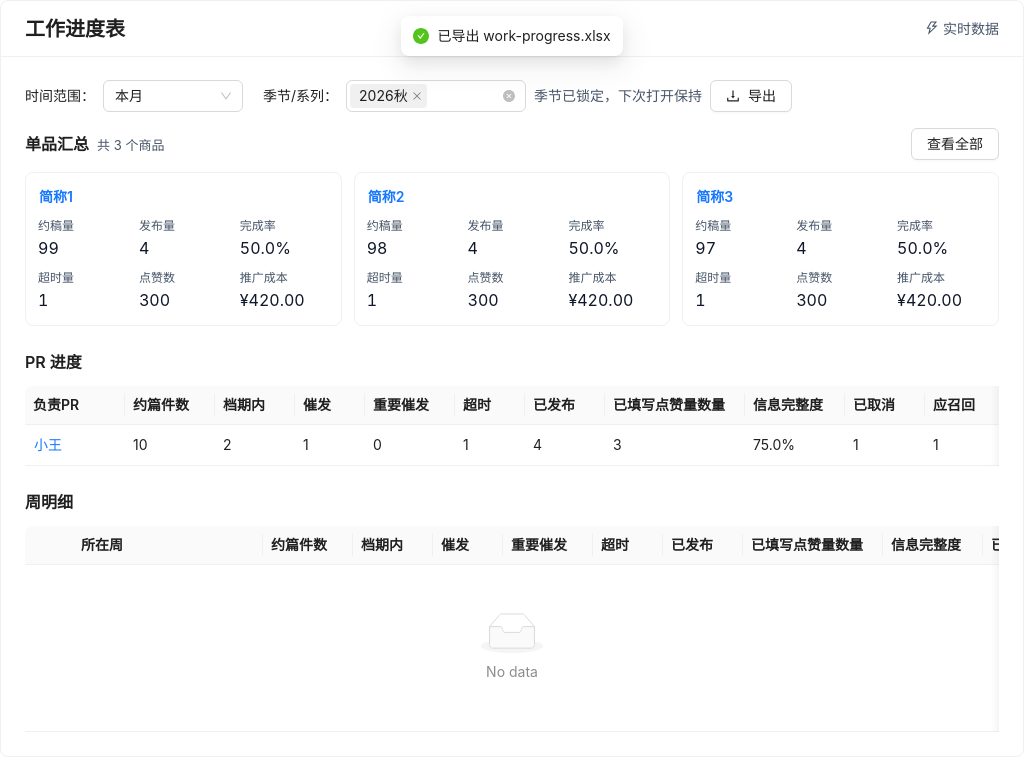
WorkProgressPage 单品卡片 › 点商品名下钻：带 goods_id、区间与季节，不带 pr_id
The image size is (1024, 768).
Click the button with aria-label "查看 简称2 的推广单".
click(386, 197)  # box [367, 185, 405, 209]
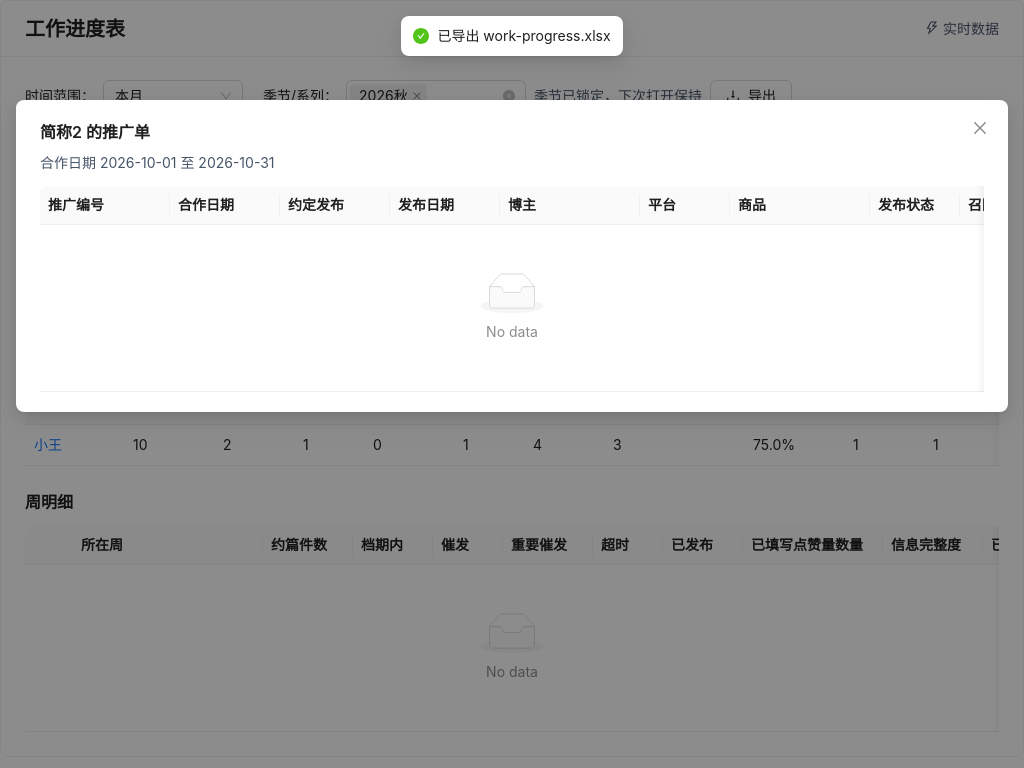
Check: the text "简称2 的推广单" is shown, box [40, 122, 150, 142]
